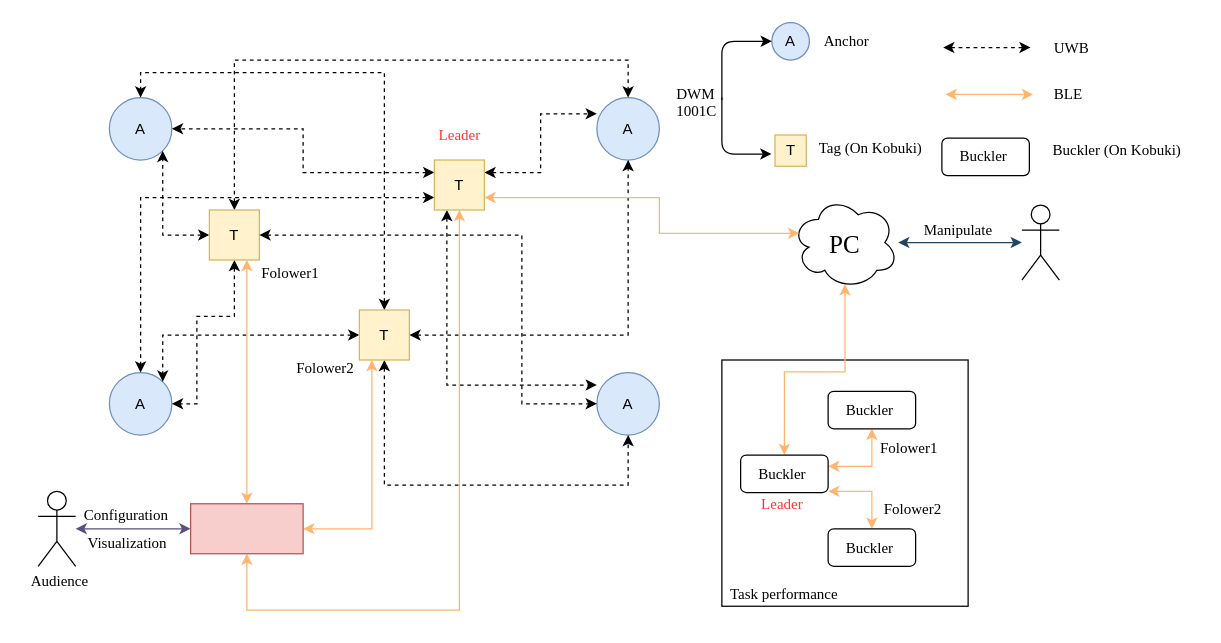
This 1221x643 diagram has some shape labels left out. The shapes that lost their labels are listed below. From the top down, each one's box as (x1, y1, x2, y2) in pixels, then its label:
(1021, 204, 1059, 280): Actor
(189, 502, 303, 554): PHONE
